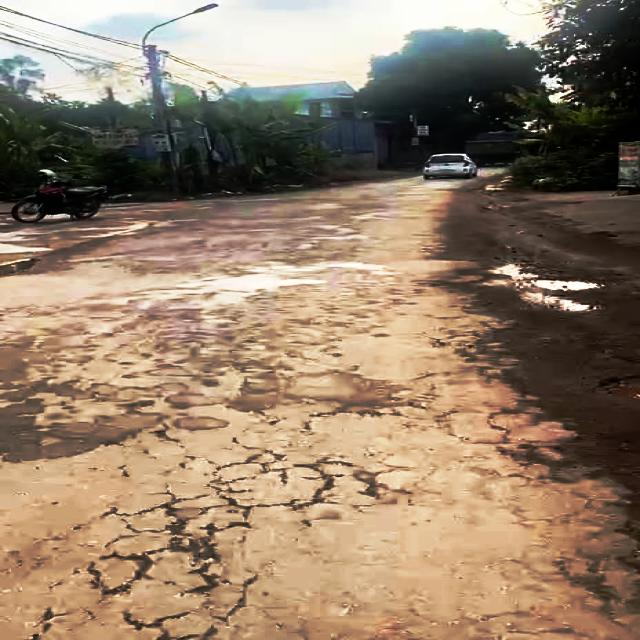pothole: (81, 508, 250, 639), (197, 444, 397, 510), (521, 430, 640, 540), (487, 261, 619, 319), (593, 374, 640, 404), (0, 256, 47, 278)
